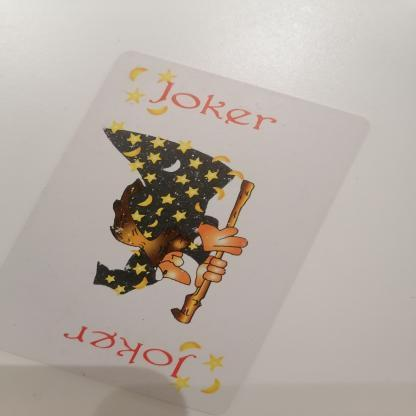BLACK JOKER: (98, 54, 290, 153), (40, 324, 258, 408)
